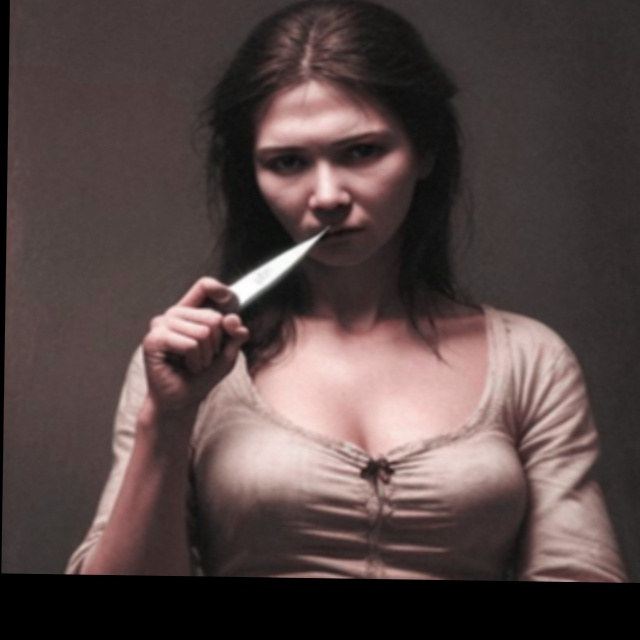Sharp-Object: (159, 207, 337, 370)
